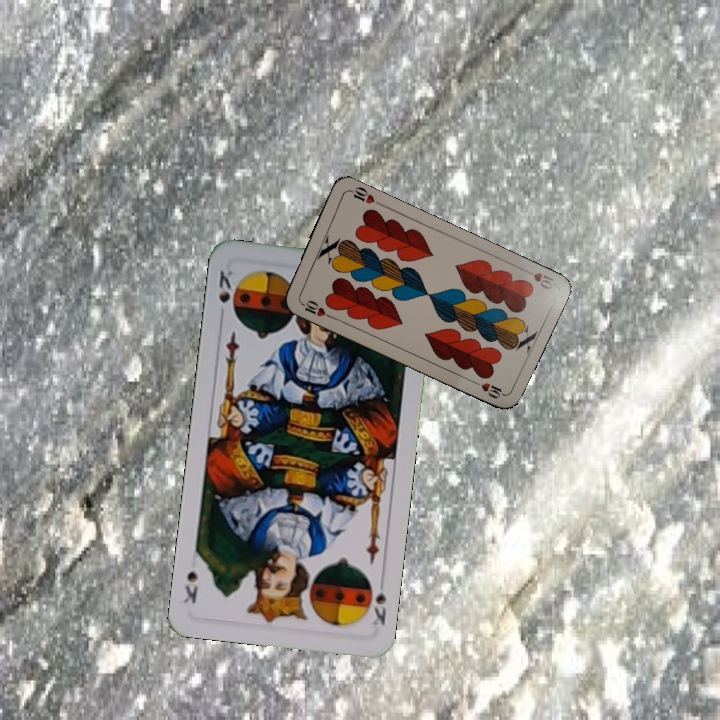H10: (518, 264, 558, 292), (296, 296, 334, 321)
SK: (214, 266, 240, 320), (368, 573, 389, 628)
